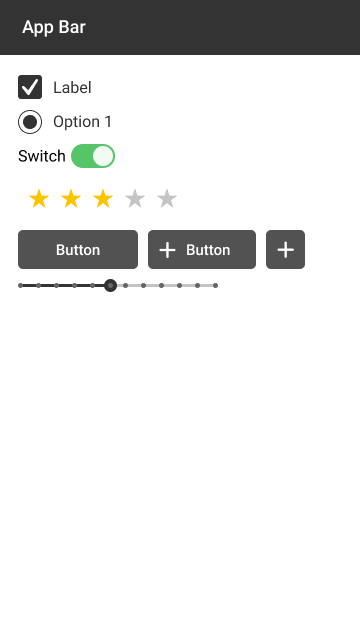button: (14, 227, 141, 272)
buttonIcon: (262, 229, 308, 273)
buttonImage: (146, 229, 258, 271)
ratingBar: (26, 180, 180, 212)
slider: (16, 276, 222, 294)
switch: (14, 144, 120, 169)
textView: (14, 70, 94, 104)
toolbar: (1, 1, 360, 55)
